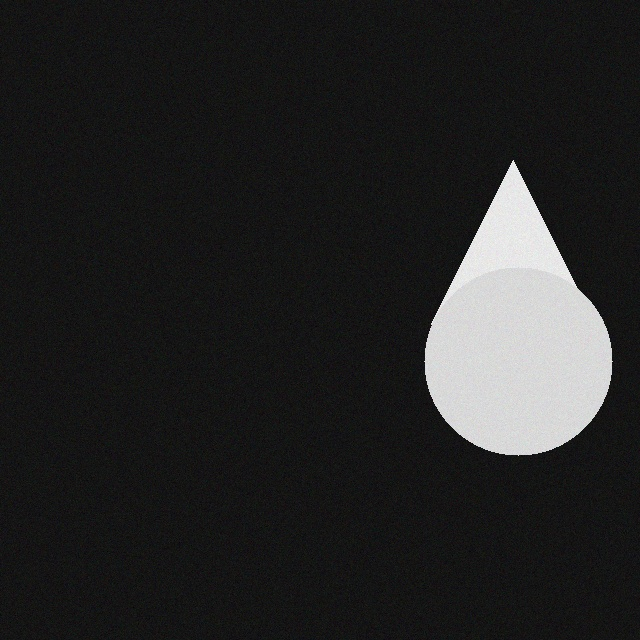circle: (424, 260, 612, 448)
triangle: (431, 153, 595, 317)
